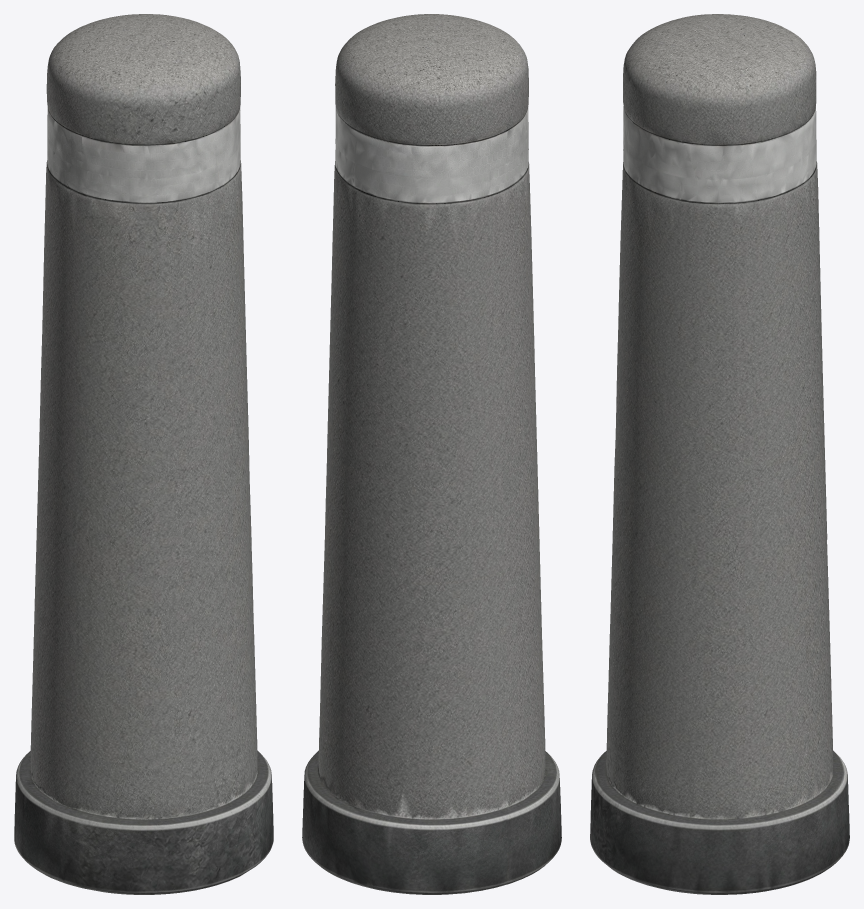
File: bollard2.glb
3 renders of one model, left to right at view 1: azimuth 30°, elevation 25°; view 2: azimuth 150°, elevation 25°; view 3: azimuth 270°, elevation 25°, orthographic.
Visible parts, largest first — view 1: mesh_node; view 2: mesh_node; view 3: mesh_node.
Part boxes in pixels (left/top/right/bottom): mesh_node: left=14, top=14, right=273, bottom=894; mesh_node: left=302, top=14, right=561, bottom=894; mesh_node: left=590, top=14, right=849, bottom=894.
Size of the model in its own units: 0.557 by 1.9 by 0.5566.
1 material, 1 textured.
